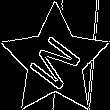M_SE: (23, 28, 87, 94)
